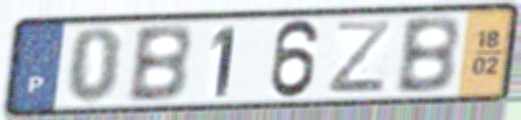0: (65, 25, 125, 106)
1: (209, 24, 236, 99)
6: (267, 17, 322, 101)
B: (124, 21, 195, 105), (392, 13, 463, 96)
Z: (324, 18, 394, 95)
